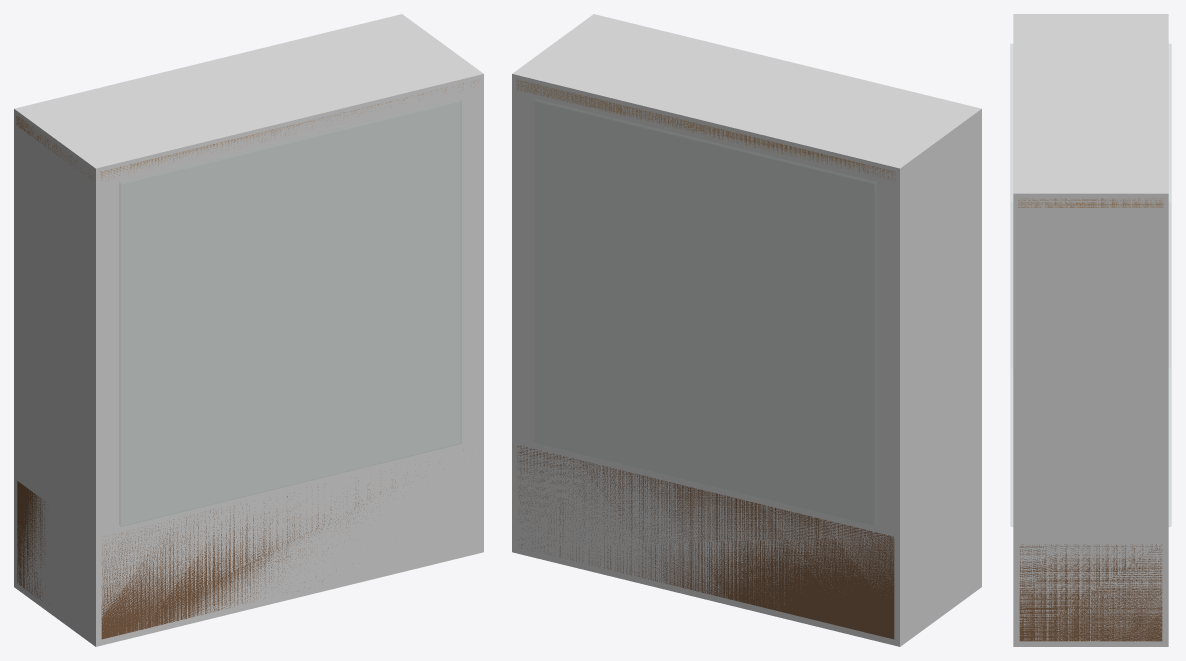
The model's file is premium.glb.
3 views of the same model, side by side, from view 1: azimuth 30°, elevation 25°; view 2: azimuth 150°, elevation 25°; view 3: azimuth 270°, elevation 25° (orthographic). The views are drawn at different scales.
Visible parts, largest first — view 1: COL_GLASS_SHOWCASES_PREMIUM, Showcase_Plinth.002, Showcase_GlassBack.002, Showcase_Cap.002; view 2: COL_GLASS_SHOWCASES_PREMIUM, Showcase_Plinth.002, Showcase_Cap.002, Showcase_GlassFront.002; view 3: COL_GLASS_SHOWCASES_PREMIUM, Showcase_Plinth.002, Showcase_GlassBack.002, Showcase_GlassFront.002, Showcase_Cap.002.
Boxes of the visible parts, x1,y1,x2,y2 form: COL_GLASS_SHOWCASES_PREMIUM: (14, 14, 483, 646); Showcase_Plinth.002: (17, 480, 395, 639); Showcase_GlassBack.002: (120, 100, 461, 526); Showcase_Cap.002: (16, 80, 476, 180); COL_GLASS_SHOWCASES_PREMIUM: (512, 14, 981, 646); Showcase_Plinth.002: (517, 445, 894, 639); Showcase_Cap.002: (516, 79, 895, 180); Showcase_GlassFront.002: (534, 100, 875, 526); COL_GLASS_SHOWCASES_PREMIUM: (1013, 14, 1168, 646); Showcase_Plinth.002: (1019, 544, 1162, 641); Showcase_GlassBack.002: (1010, 44, 1012, 526); Showcase_GlassFront.002: (1169, 44, 1171, 526); Showcase_Cap.002: (1018, 198, 1163, 207).
Bounding box in the file's own units: 1.69 × 1.99 × 0.641.
